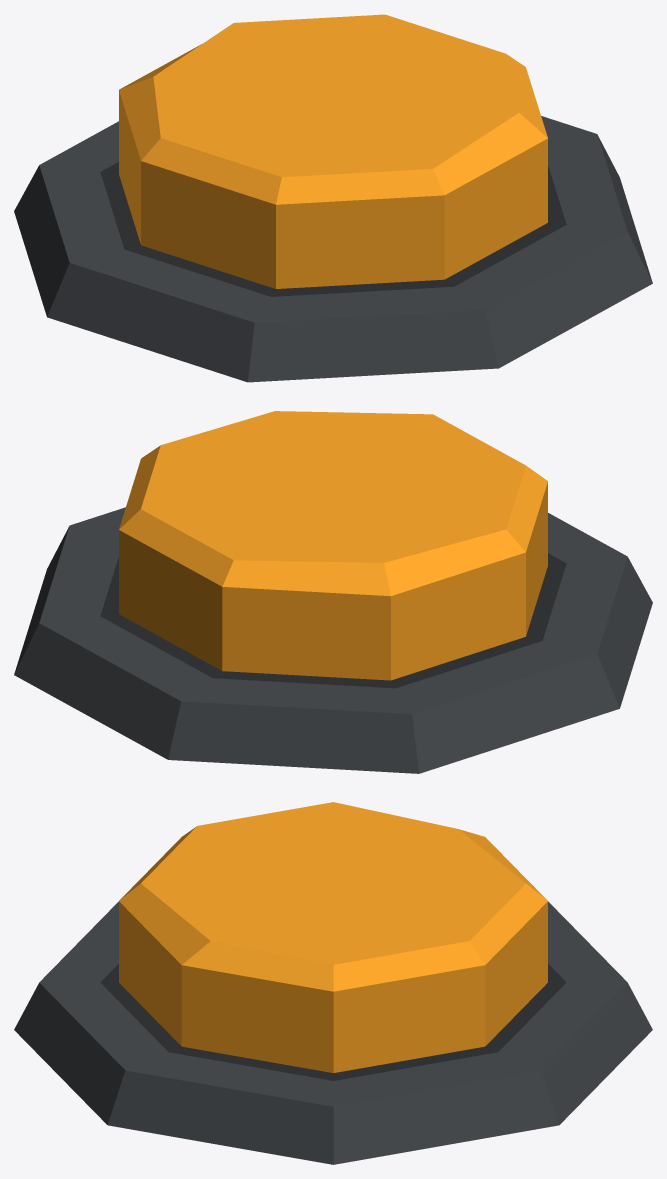
File: SM_Switch_Button_01.fbx
3 views of the same model, one above another, from view 1: azimuth 30°, elevation 25°; view 2: azimuth 150°, elevation 25°; view 3: azimuth 270°, elevation 25° (orthographic). The views are drawn at different scales.
Visible parts, largest first — view 1: SM_Switch_Button_Button_01, SM_Switch_Button_01; view 2: SM_Switch_Button_Button_01, SM_Switch_Button_01; view 3: SM_Switch_Button_Button_01, SM_Switch_Button_01.
Boxes of the visible parts, x1=… form: SM_Switch_Button_Button_01: x1=119, y1=14, x2=547, y2=288; SM_Switch_Button_01: x1=14, y1=116, x2=652, y2=382; SM_Switch_Button_Button_01: x1=119, y1=411, x2=547, y2=680; SM_Switch_Button_01: x1=14, y1=507, x2=652, y2=773; SM_Switch_Button_Button_01: x1=119, y1=802, x2=547, y2=1072; SM_Switch_Button_01: x1=14, y1=901, x2=652, y2=1164.
Bounding box in the file's own units: 12.97 × 3.28 × 12.97.
